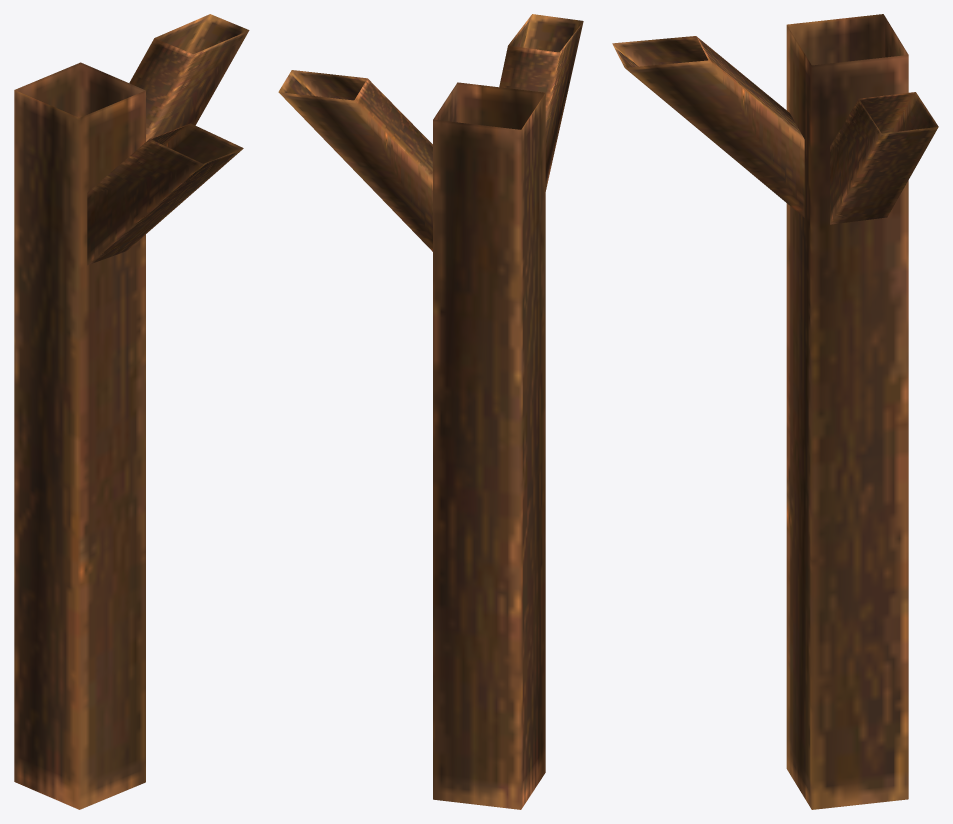
File: SWORDLIGHT20_JAILPLATSUPPORT76.fbx
3 views of the same model, side by side, from view 1: azimuth 30°, elevation 25°; view 2: azimuth 150°, elevation 25°; view 3: azimuth 270°, elevation 25° (orthographic). The views are drawn at different scales.
Visible parts, largest first — view 1: SWORDLIGHT20_JAILPLATSUPPORT76; view 2: SWORDLIGHT20_JAILPLATSUPPORT76; view 3: SWORDLIGHT20_JAILPLATSUPPORT76.
Boxes of the visible parts, bbox=[...] form: SWORDLIGHT20_JAILPLATSUPPORT76: bbox=[14, 14, 249, 809]; SWORDLIGHT20_JAILPLATSUPPORT76: bbox=[278, 14, 583, 809]; SWORDLIGHT20_JAILPLATSUPPORT76: bbox=[612, 14, 938, 809].
Bounding box in the file's own units: 11640 × 33013 × 13065.
1 material, 1 textured.
